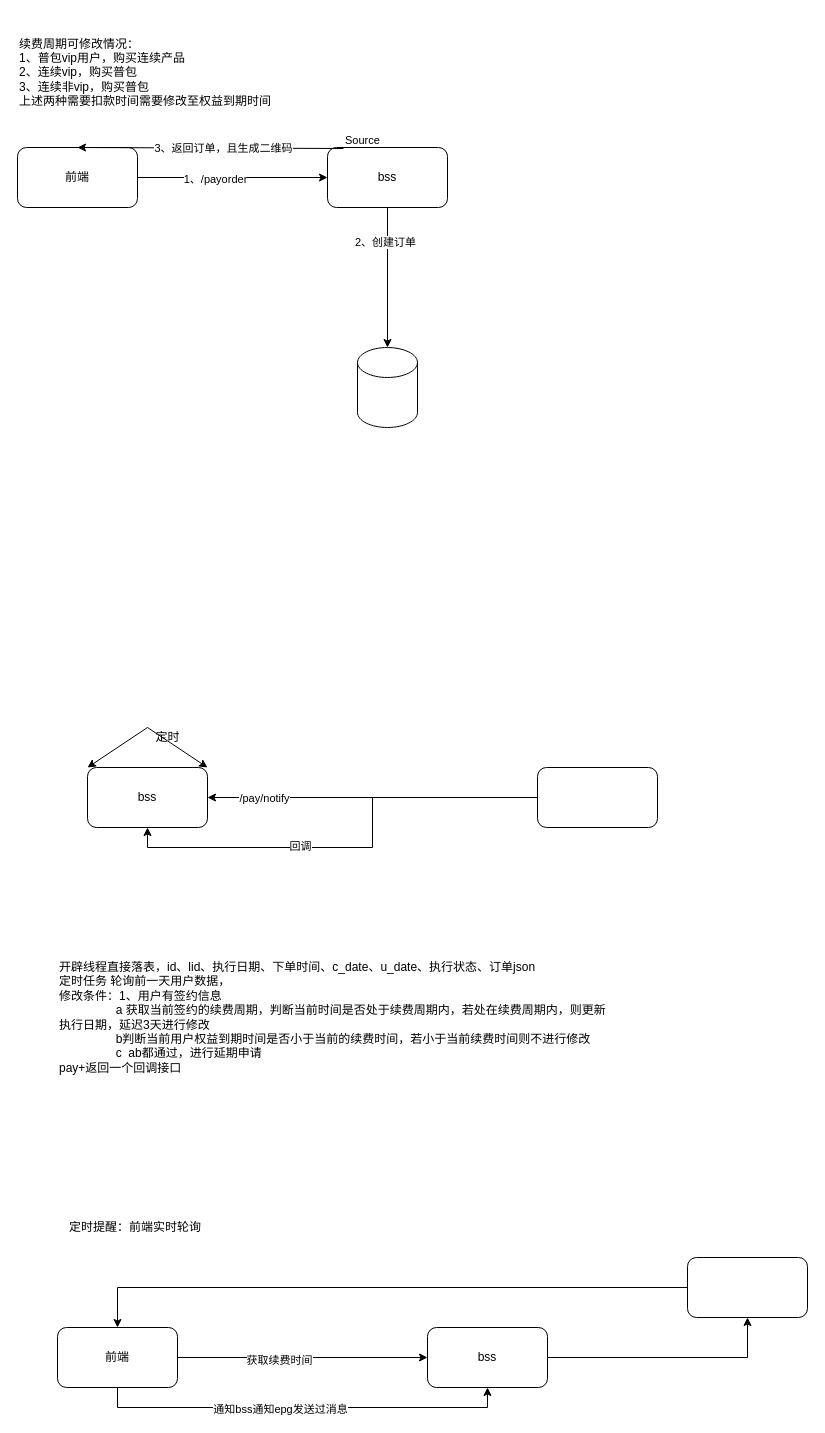
Image size: 825x1433. Some labels were removed from this diagram. Here are the shapes that lost their labels. From the top down, the centre of each, then its label:
the point at 387,387: bms
the point at 597,797: pay+
the point at 747,1287: epg保存消息数据
